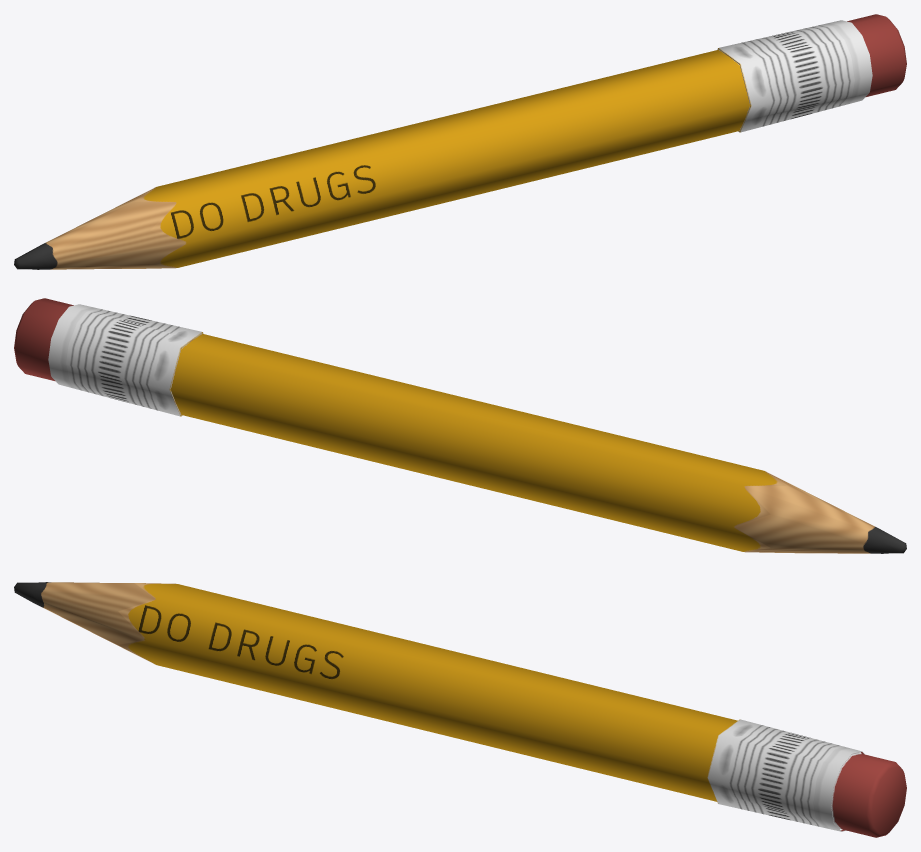
Rendered from pencil.glb.
The picture shows the model from 3 angles, top to bottom: view 1: azimuth 30°, elevation 25°; view 2: azimuth 150°, elevation 25°; view 3: azimuth 330°, elevation 25°; orthographic projection.
Parts seen in each view (by area): view 1: Pencil; view 2: Pencil; view 3: Pencil.
Boxes of the visible parts, x1,y1,x2,y2 form: Pencil: [14, 14, 906, 269]; Pencil: [14, 298, 906, 553]; Pencil: [14, 582, 906, 837].
Size of the model in its own units: 10.34 by 0.8497 by 0.8949.
1 material, 1 textured.
